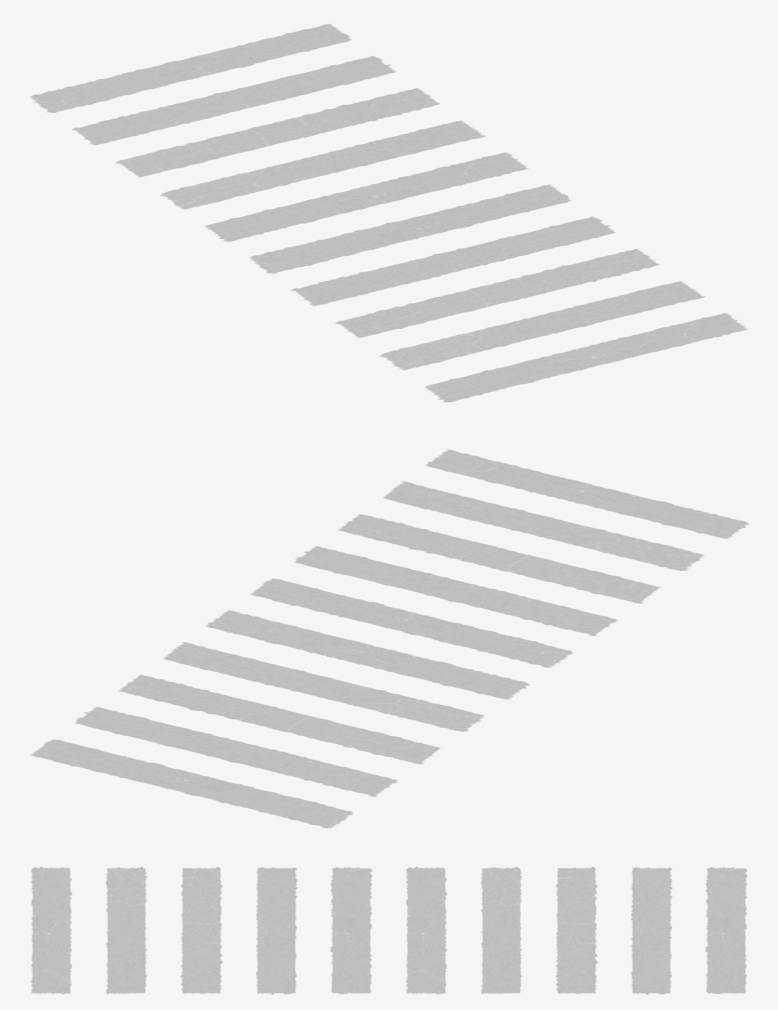
File: Decal_Crosswalk_Wide.glb
3 views of the same model, one above another, from view 1: azimuth 30°, elevation 25°; view 2: azimuth 150°, elevation 25°; view 3: azimuth 270°, elevation 25° (orthographic). The views are drawn at different scales.
Parts seen in each view (by area): view 1: Decal_Crosswalk_Wide; view 2: Decal_Crosswalk_Wide; view 3: Decal_Crosswalk_Wide.
Part boxes in pixels (x1,y1,x2,y2): Decal_Crosswalk_Wide: (30,24,747,402); Decal_Crosswalk_Wide: (31,449,748,828); Decal_Crosswalk_Wide: (31,867,746,994).
Size of the model in its own units: 4.67 by 0 by 11.42.
Materials: 1 (1 with a texture image).
